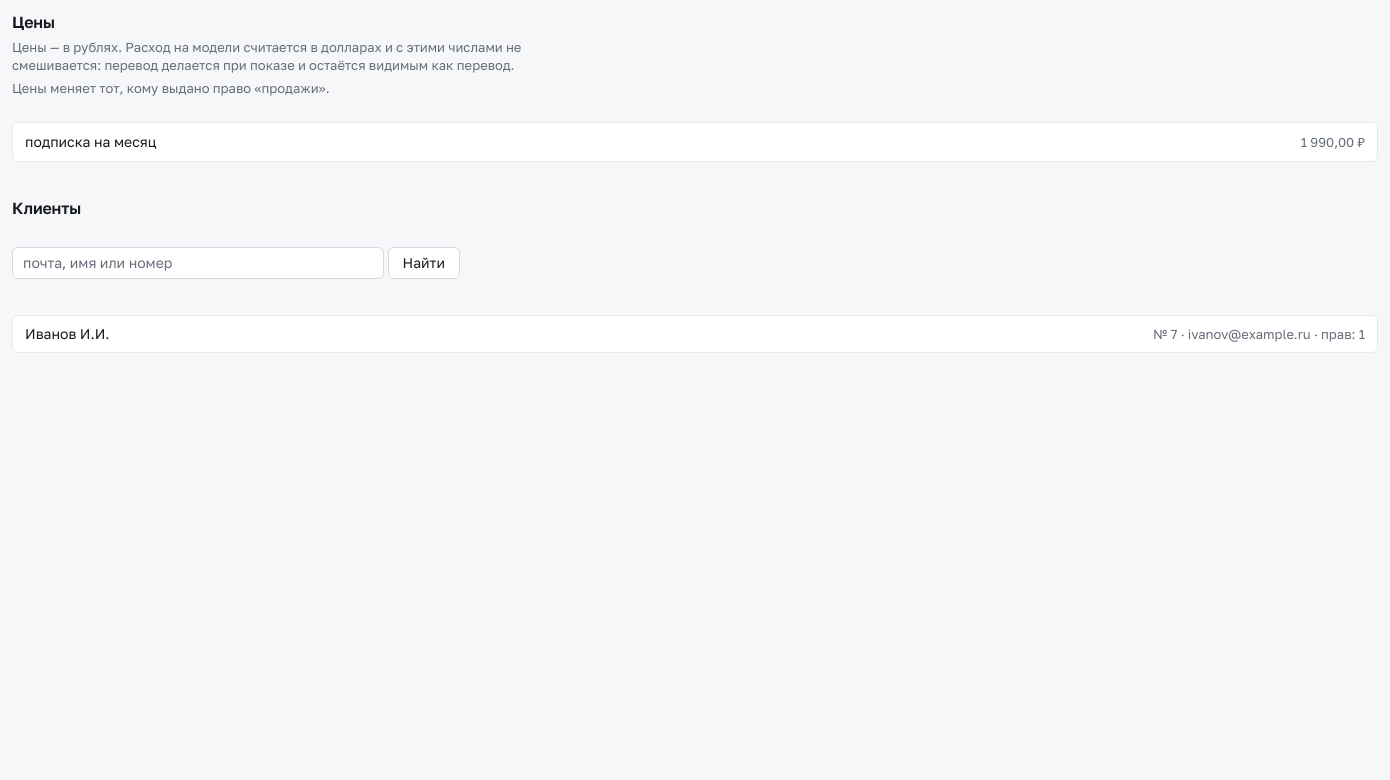
продажи › без права продаж приход не предлагается, а карточка открыта
The width and height of the screenshot is (1390, 780).
Click the text "Иванов И.И." at (67, 334), box [25,324,110,344]
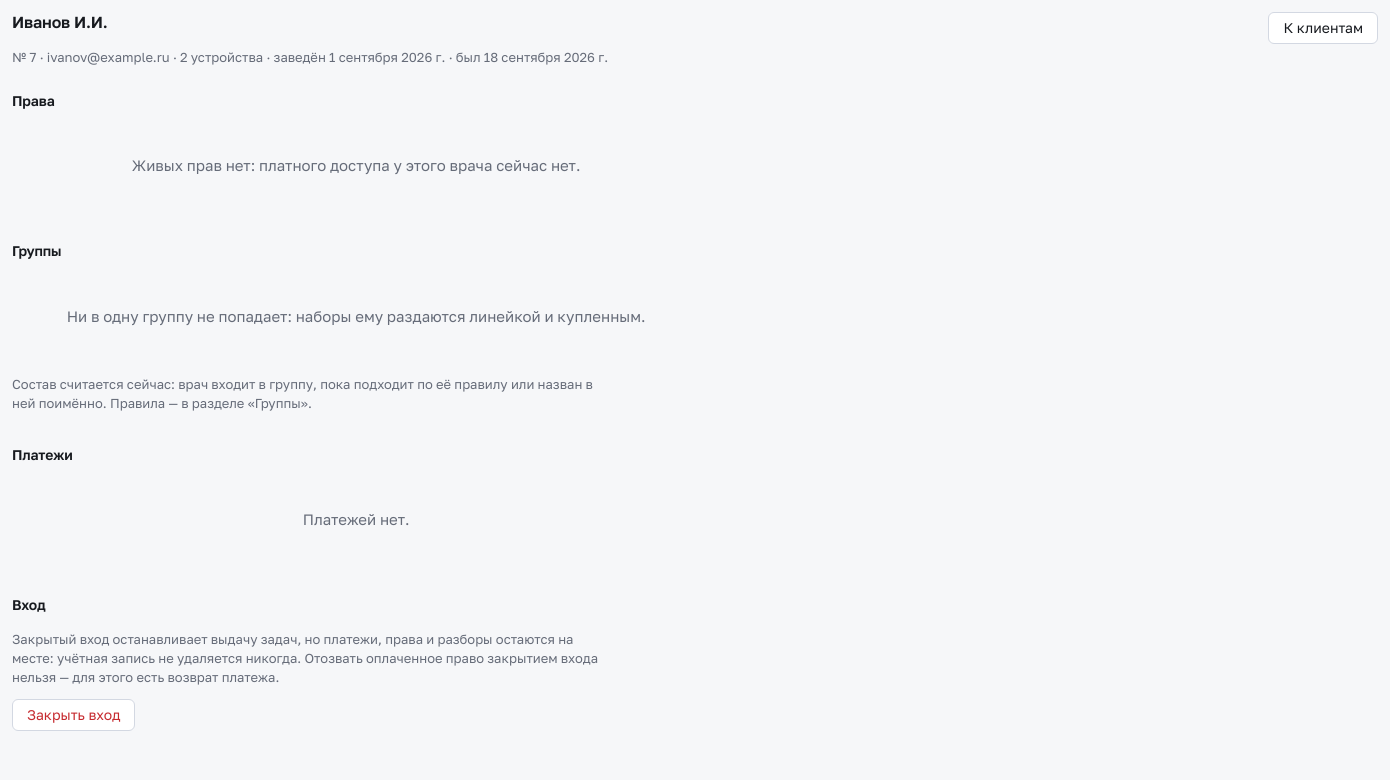
Expected: the heading "Права" is shown, [12,92,55,109]
